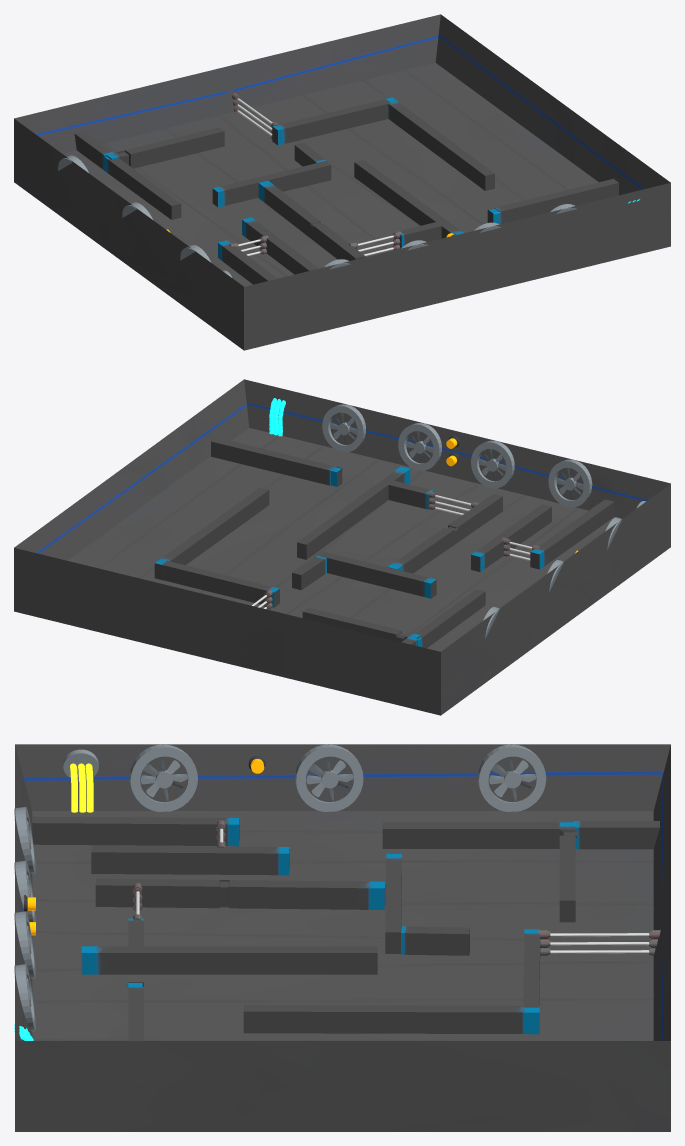
File: Levellayoutlevel1.fbx
The picture shows the model from 3 angles, top to bottom: view 1: azimuth 30°, elevation 25°; view 2: azimuth 150°, elevation 25°; view 3: azimuth 270°, elevation 25°; orthographic projection. The views are drawn at different scales.
Parts seen in each view (by area): view 1: Level1base, Cube.013, Cube.018, Cube.022, Cube.012, Cube.014, Cube.009, Cube.019, Cube.010, Cube.017, Cube.011, Cube.020 (+1 smaller); view 2: Level1base, Cube.012, Cube.013, Cube.009, Cube.022, Cube.014, Cube.018, Cube.011, Cube.017, Cube.010, Cube.019, Cylinder.014 (+5 smaller); view 3: Level1base, Cube.009, Cube.013, Cube.022, Cube.011, Cube.017, Cube.010, Cube.020, Fanouter.002, Fanouter.006, Fanouter.003, Cube.021 (+12 smaller).
Part boxes in pixels (bbox=[...]): Level1base: bbox=[14, 14, 670, 350]; Cube.013: bbox=[385, 97, 494, 190]; Cube.018: bbox=[272, 99, 390, 145]; Cube.022: bbox=[258, 180, 365, 260]; Cube.012: bbox=[487, 179, 618, 224]; Cube.014: bbox=[212, 161, 331, 207]; Cube.009: bbox=[354, 159, 463, 238]; Cube.019: bbox=[106, 127, 224, 168]; Cube.010: bbox=[104, 156, 181, 219]; Cube.017: bbox=[242, 217, 318, 274]; Cube.011: bbox=[218, 240, 277, 284]; Cube.020: bbox=[74, 131, 113, 169]; Level1base: bbox=[14, 379, 670, 715]; Cube.012: bbox=[211, 437, 342, 486]; Cube.013: bbox=[154, 487, 269, 580]; Cube.009: bbox=[297, 466, 410, 559]; Cube.022: bbox=[387, 494, 502, 573]; Cube.014: bbox=[319, 551, 436, 598]; Cube.018: bbox=[162, 561, 279, 607]; Cube.011: bbox=[530, 499, 614, 569]; Cube.017: bbox=[471, 504, 551, 572]; Cube.010: bbox=[415, 589, 485, 648]; Cube.019: bbox=[302, 607, 420, 642]; Cylinder.014: bbox=[322, 404, 365, 452]; Level1base: bbox=[15, 744, 670, 1131]; Cube.009: bbox=[81, 946, 377, 974]; Cube.013: bbox=[243, 1005, 539, 1034]; Cube.022: bbox=[95, 878, 385, 909]; Cube.011: bbox=[32, 816, 239, 846]; Cube.017: bbox=[91, 845, 289, 875]; Cube.010: bbox=[382, 822, 559, 848]; Cube.020: bbox=[574, 821, 659, 849]; Fanouter.002: bbox=[129, 744, 197, 811]; Fanouter.006: bbox=[295, 744, 363, 811]; Fanouter.003: bbox=[478, 744, 546, 811]; Cube.021: bbox=[401, 926, 469, 955].
Size of the model in its own units: 2464 by 356 by 2297.
